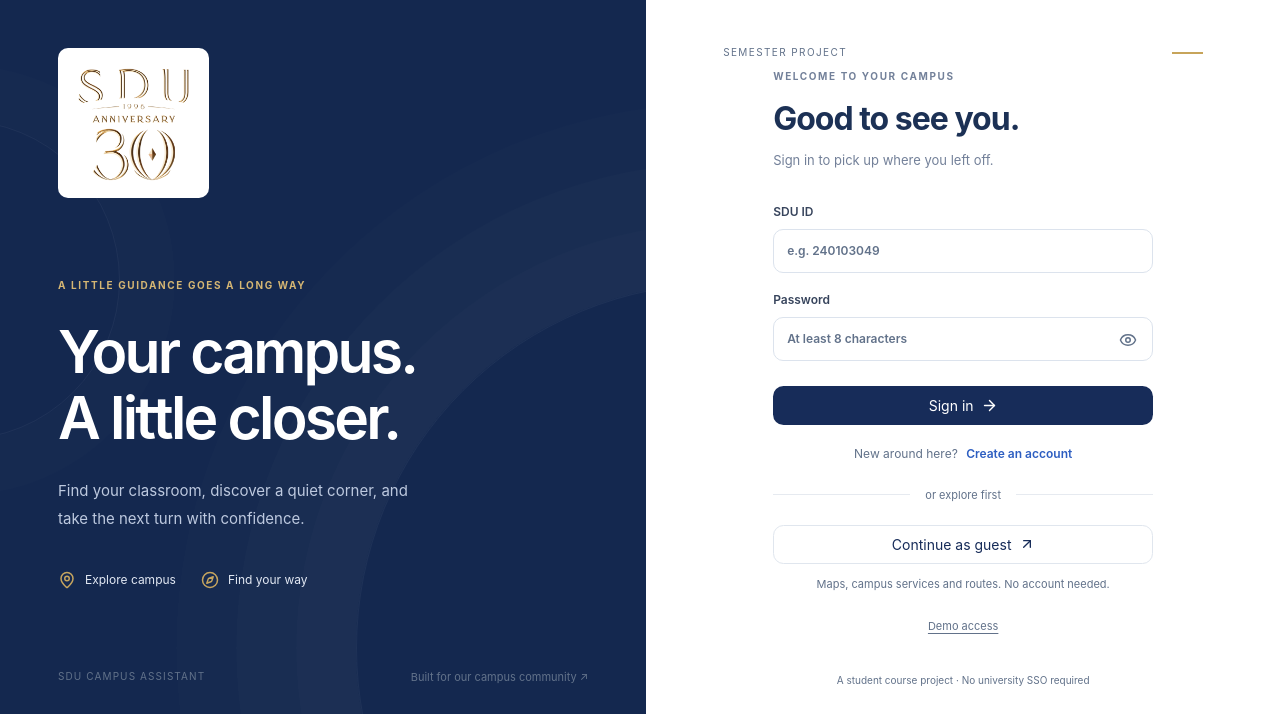
Test: failed sign-in displays the backend message without claiming success
Type "240103049" into the field labelled "SDU ID" at x=963, y=251, box [773,229,1153,273]
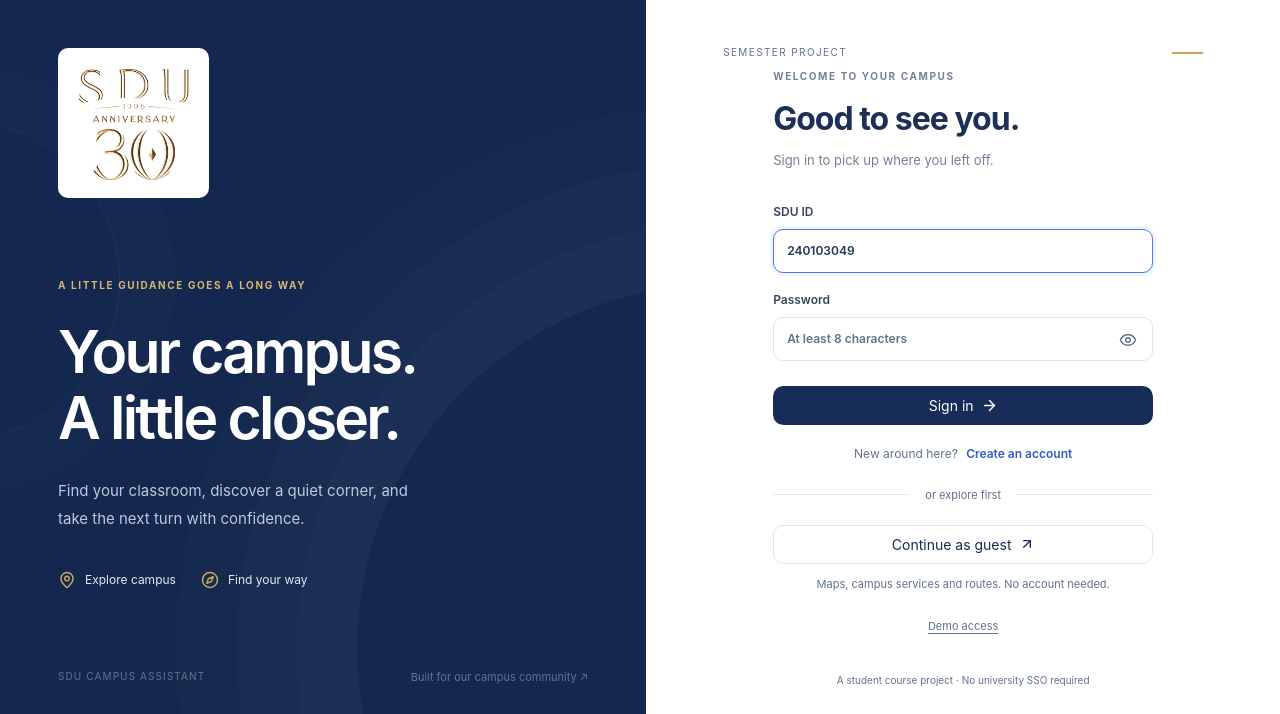
Type "Campus123!" into the password field with placeholder "At least 8 characters" at x=963, y=339, box [773,317,1153,361]
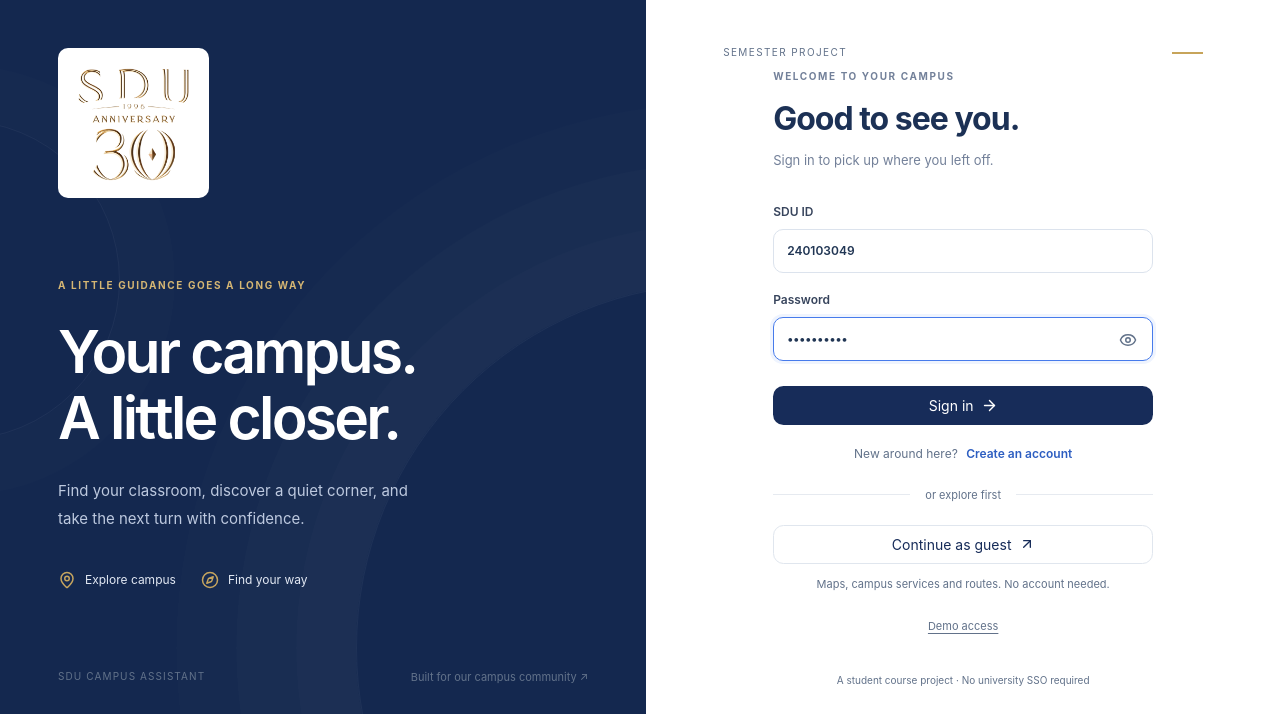
Click the button "Sign in" at x=963, y=405, box [773,386,1153,424]
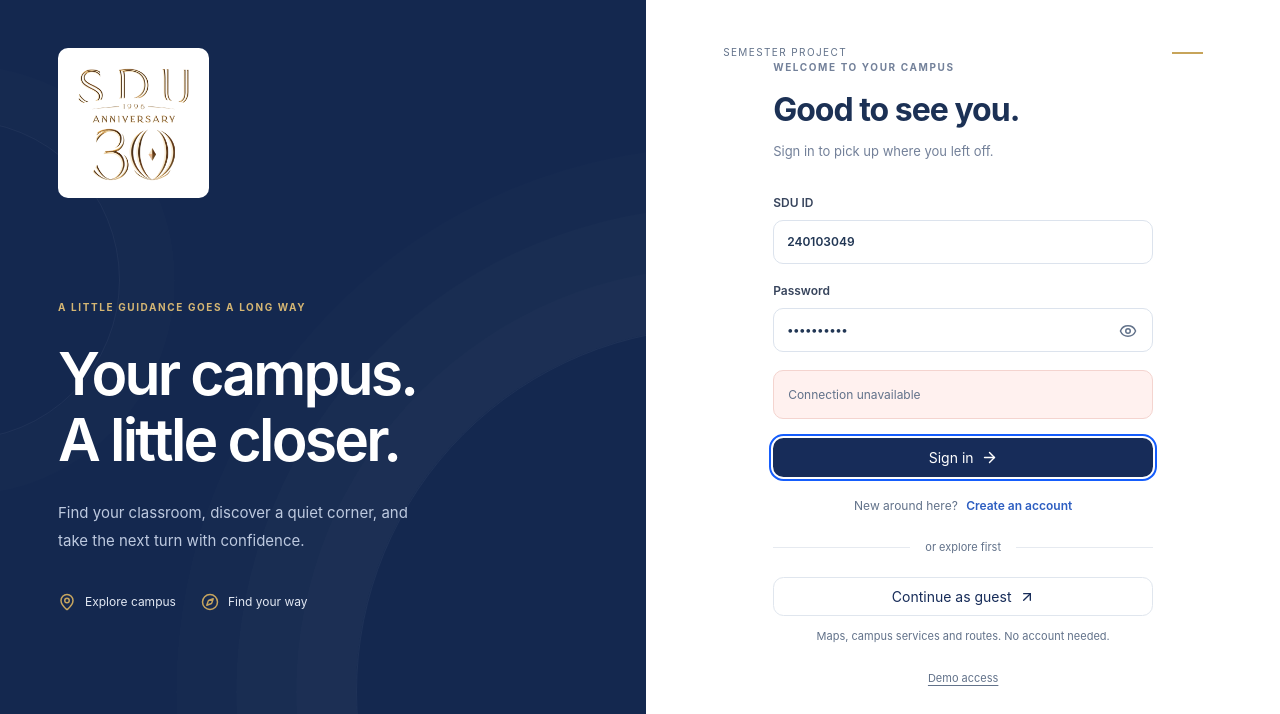
Check: the message reads "Connection unavailable", box [788,387,921,402]
